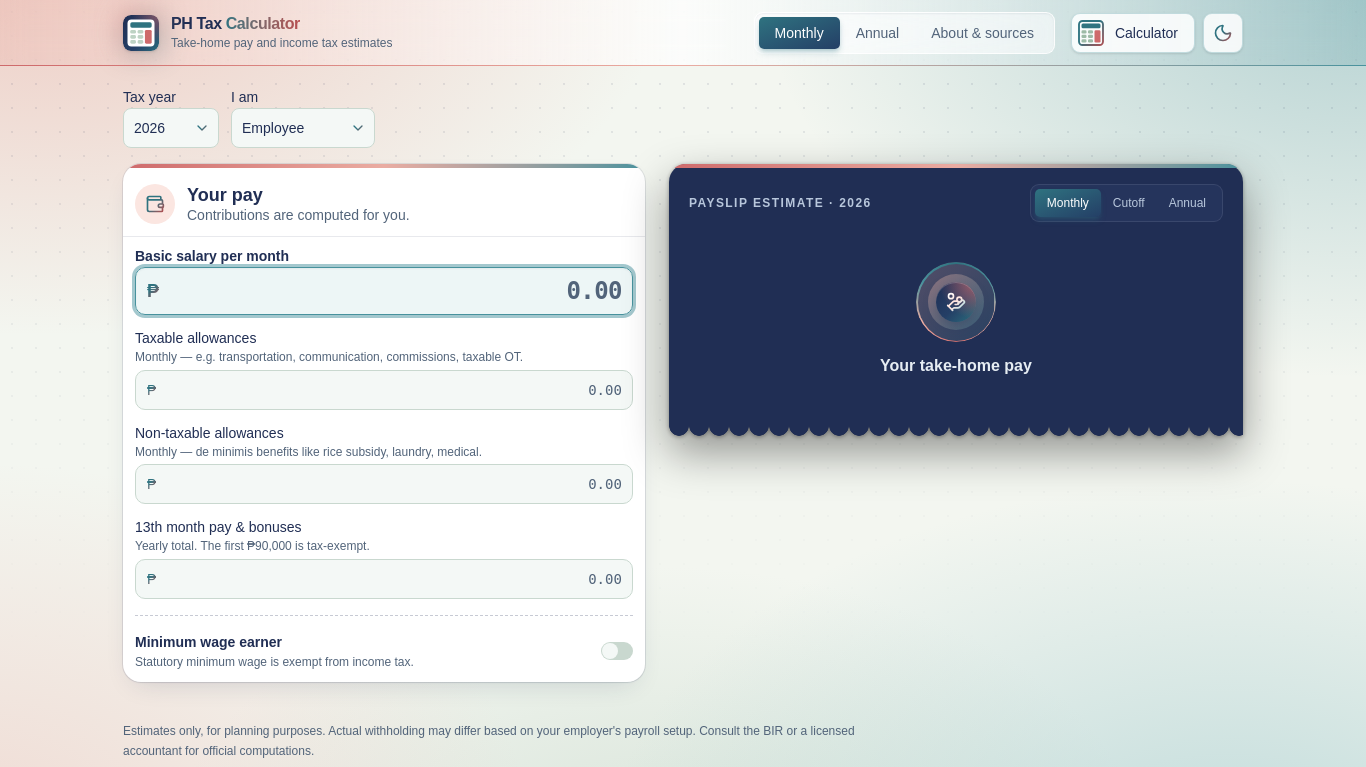
Test: the calculator in the app › announces the number without the running line
Click the button "Calculator".
click(1133, 33)  # box [1071,13,1195,53]
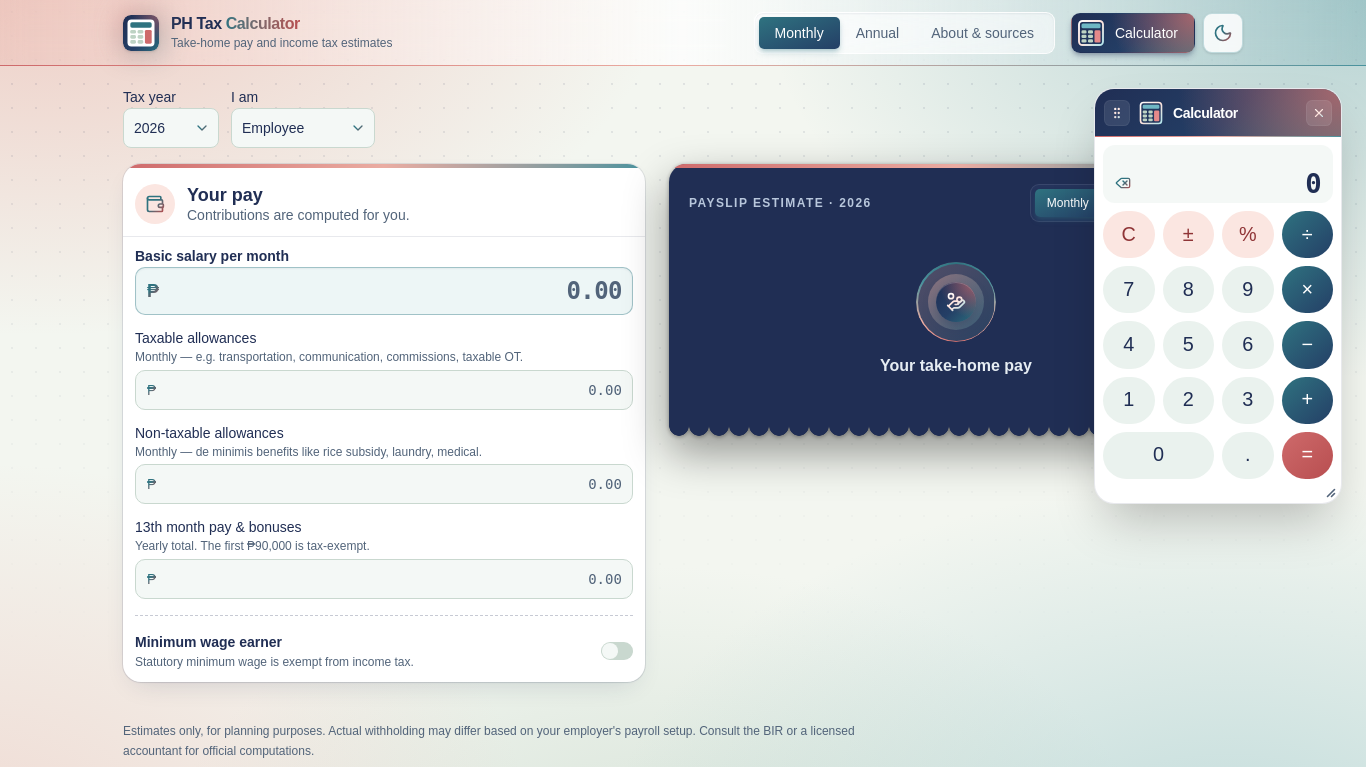
Type keys "1200+35"
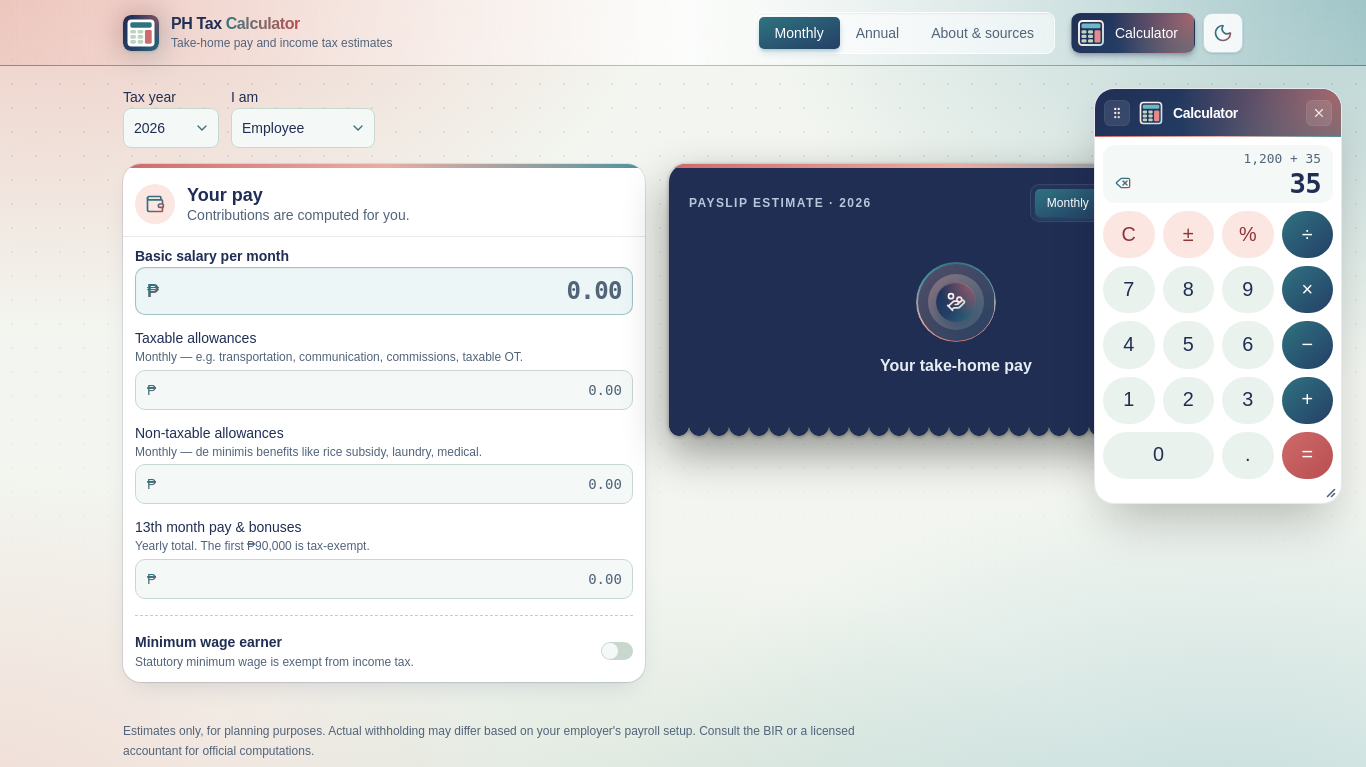
Now the text "1,200 + 35" is shown, box [1244,151,1321,166]
